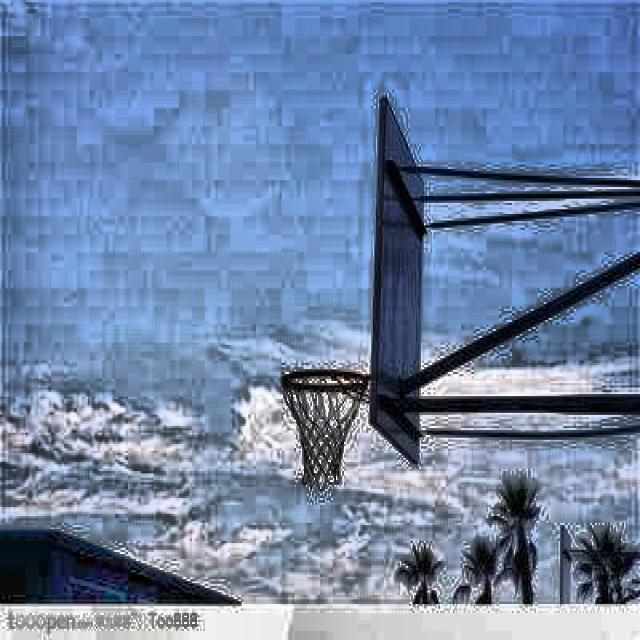rim: (280, 368, 368, 492)
